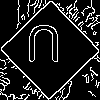U: (25, 25, 62, 72)
